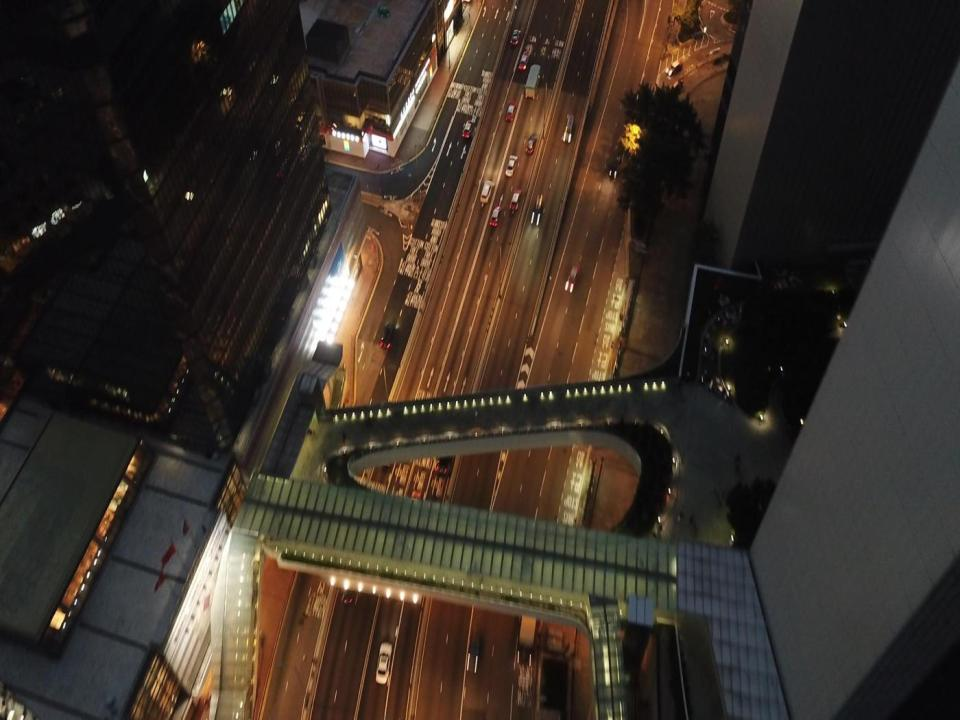bus: (518, 582, 537, 665)
car: (434, 436, 454, 475), (466, 630, 483, 672), (376, 642, 392, 684), (379, 436, 395, 470), (409, 490, 422, 526), (564, 262, 579, 292), (380, 321, 395, 349), (608, 152, 622, 180), (562, 115, 574, 144), (666, 58, 682, 75), (505, 154, 517, 176), (490, 204, 502, 226), (505, 100, 516, 122), (519, 50, 531, 70), (510, 190, 521, 211), (525, 136, 537, 154), (462, 120, 473, 139), (510, 28, 520, 46)
truck: (525, 64, 541, 99)
van: (530, 195, 545, 226), (480, 181, 492, 203)
